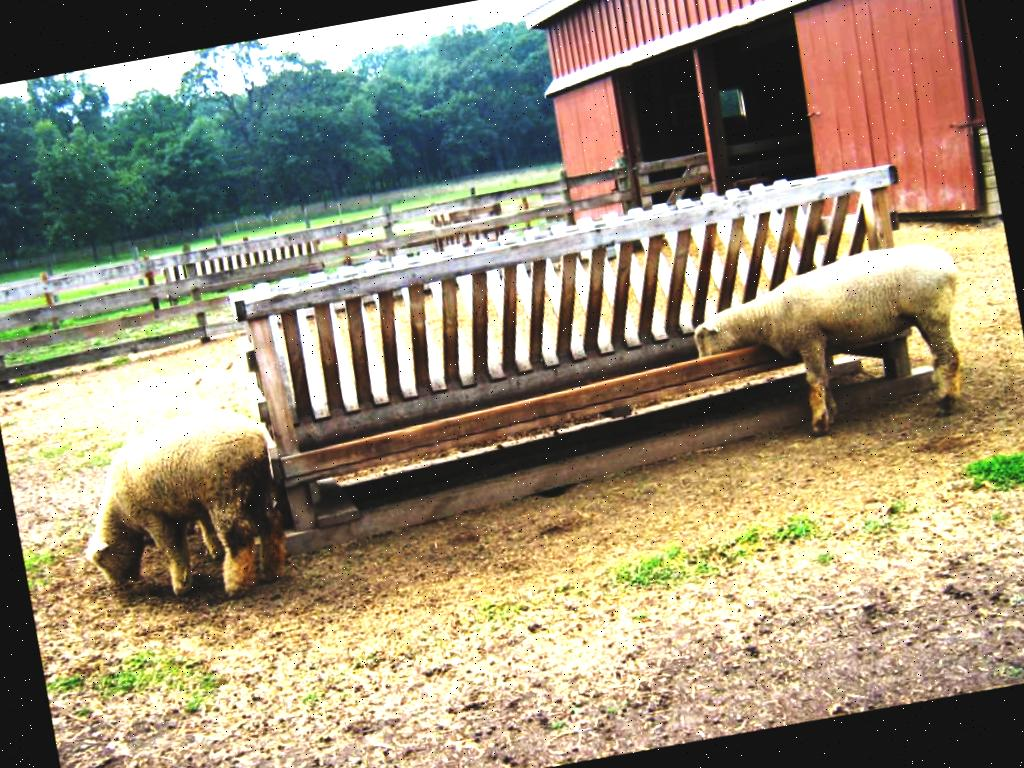Sheep: (682, 234, 984, 456), (64, 400, 292, 618), (117, 388, 225, 576)
